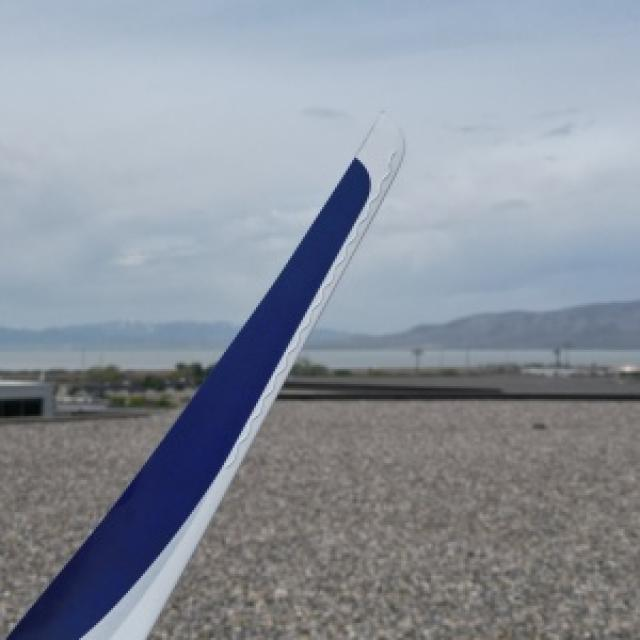healthy: (4, 113, 401, 638)
